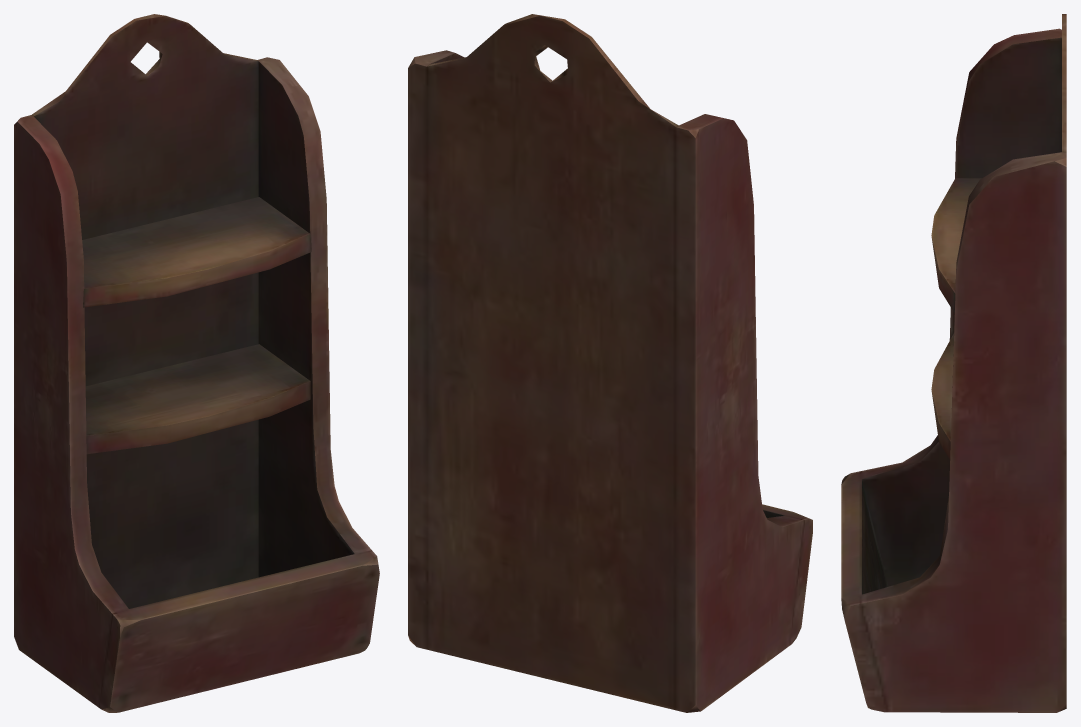
File: painted_wooden_shelves.glb
3 views of the same model, side by side, from view 1: azimuth 30°, elevation 25°; view 2: azimuth 150°, elevation 25°; view 3: azimuth 270°, elevation 25° (orthographic). The views are drawn at different scales.
Parts seen in each view (by area): view 1: painted_wooden_shelves; view 2: painted_wooden_shelves; view 3: painted_wooden_shelves.
Boxes of the visible parts, x1,y1,x2,y2 form: painted_wooden_shelves: [14, 14, 379, 712]; painted_wooden_shelves: [408, 14, 812, 712]; painted_wooden_shelves: [841, 14, 1066, 712].
Size of the model in its own units: 0.5111 by 1.12 by 0.3671.
Materials: 1 (1 with a texture image).
